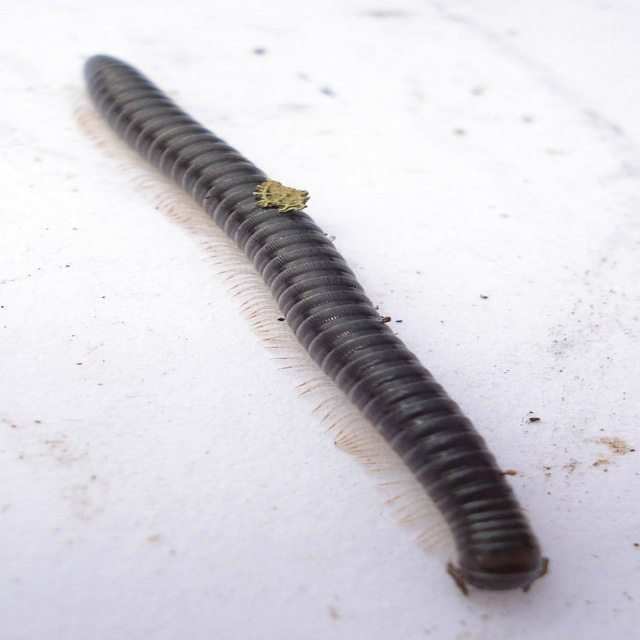Centipede: (69, 55, 555, 603)
